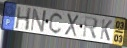C: (48, 12, 64, 35)
H: (14, 6, 33, 32)
K: (99, 18, 114, 43)
N: (29, 7, 48, 33)
R: (82, 15, 100, 41)
X: (64, 12, 80, 38)
